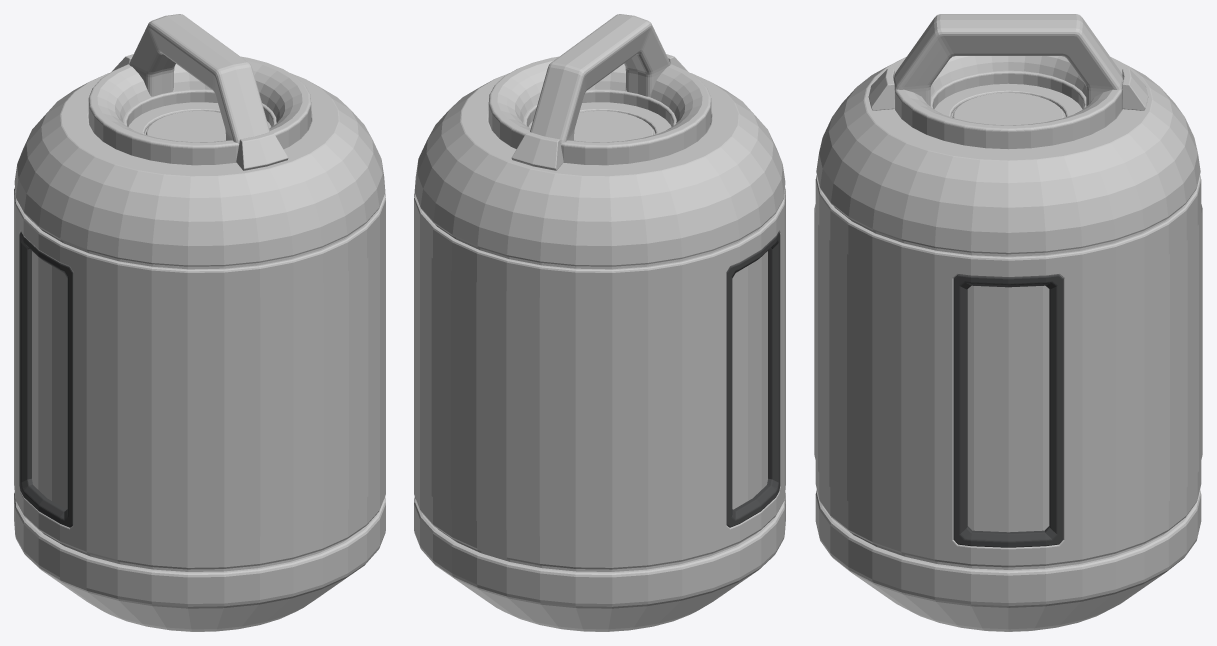
The model's file is pila.obj.
3 views of the same model, side by side, from view 1: azimuth 30°, elevation 25°; view 2: azimuth 150°, elevation 25°; view 3: azimuth 270°, elevation 25° (orthographic). The views are drawn at different scales.
Visible parts, largest first — view 1: Main, Decal, Rid, Inside, Metal_Flame; view 2: Main, Decal, Rid, Inside, Metal_Flame; view 3: Main, Rid, Inside, Decal, Metal_Flame.
Part boxes in pixels (x1,y1,x2,y2): Main: [14, 54, 385, 631]; Decal: [182, 256, 370, 540]; Rid: [88, 14, 311, 165]; Inside: [32, 251, 67, 509]; Metal_Flame: [19, 231, 73, 527]; Main: [414, 54, 785, 631]; Decal: [429, 256, 617, 540]; Rid: [488, 14, 711, 165]; Inside: [732, 251, 767, 509]; Metal_Flame: [726, 231, 780, 527]; Main: [815, 57, 1201, 631]; Rid: [893, 14, 1123, 148]; Inside: [967, 285, 1049, 532]; Decal: [814, 204, 1202, 502]; Metal_Flame: [953, 274, 1063, 547].
Size of the model in its own units: 6 by 9.75 by 6.04.
